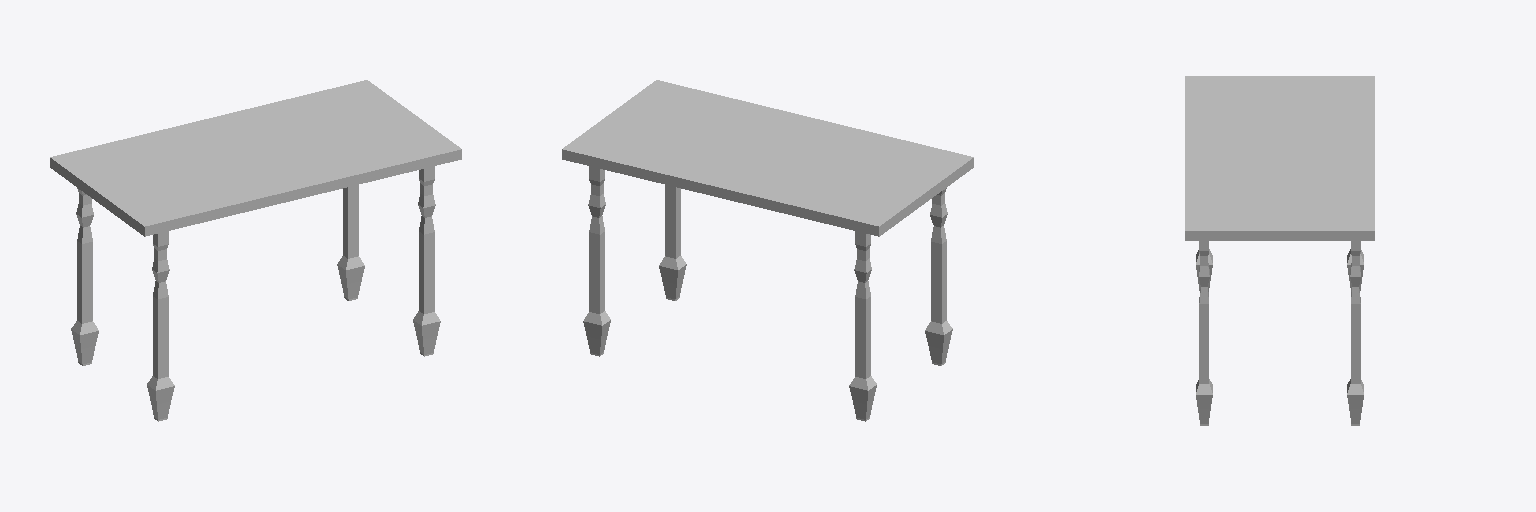
Rendered from Table.obj.
The picture shows the model from 3 angles: view 1: azimuth 30°, elevation 25°; view 2: azimuth 150°, elevation 25°; view 3: azimuth 270°, elevation 25°; orthographic projection.
Visible parts, largest first — view 1: Table; view 2: Table; view 3: Table.
Boxes of the visible parts, <box> form: Table: <box>50,80,461,421</box>; Table: <box>562,80,973,421</box>; Table: <box>1185,76,1374,425</box>.
Bounding box in the file's own units: 22.56 × 13.96 × 11.68.